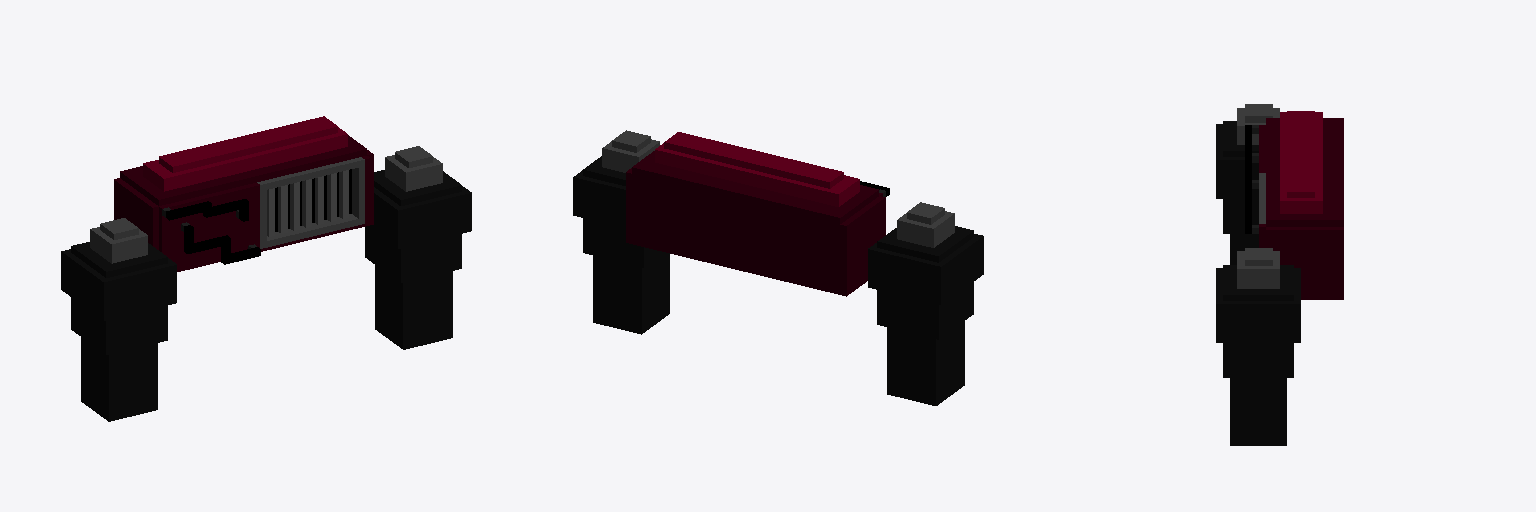
3 renders of one model, left to right at view 1: azimuth 30°, elevation 25°; view 2: azimuth 150°, elevation 25°; view 3: azimuth 270°, elevation 25°, orthographic.
Parts seen in each view (by area): view 1: object 1; view 2: object 1; view 3: object 1.
Boxes of the visible parts, box(x1,y1,x2,y2) form: object 1: box(61, 116, 471, 421); object 1: box(573, 130, 983, 405); object 1: box(1216, 104, 1343, 445).
Bounding box in the file's own units: 6 × 3.3 × 1.8.
1 materials, 1 textured.